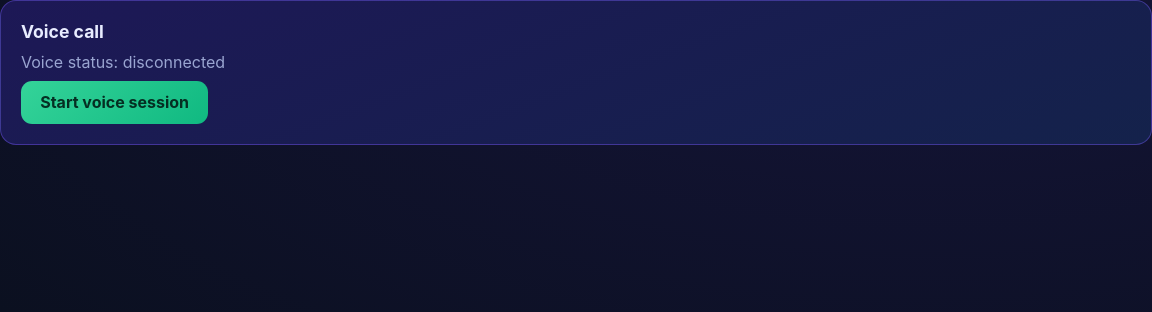
Test case: VoiceSession › shows an alert and does not report an outcome when microphone access is denied
Click the button "Start voice session" at (115, 102), box x1=21 y1=81 x2=208 y2=124
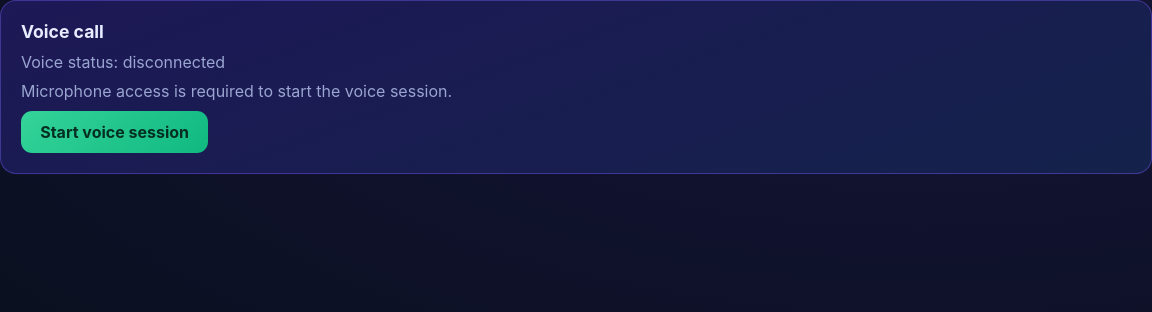
Expected: the message shows "Microphone access is required", x1=21 y1=81 x2=452 y2=101
